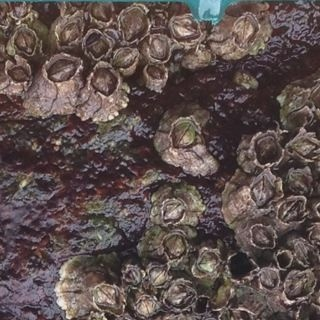Barnacle: (119, 6, 148, 44), (169, 11, 203, 42), (251, 174, 277, 210), (170, 117, 199, 149), (89, 66, 118, 97), (46, 56, 77, 84), (285, 269, 312, 301), (253, 135, 281, 165), (289, 131, 317, 159), (12, 25, 37, 56), (166, 283, 192, 310), (93, 285, 120, 311), (233, 16, 257, 45), (278, 199, 304, 225), (59, 16, 81, 46), (85, 31, 107, 61), (195, 251, 220, 276), (293, 241, 317, 267), (150, 33, 171, 62), (160, 200, 184, 225), (134, 293, 157, 319), (112, 48, 138, 70), (165, 233, 187, 259), (91, 1, 114, 24), (250, 226, 273, 249), (257, 268, 278, 290), (6, 65, 30, 84), (149, 264, 168, 288), (123, 267, 141, 286), (146, 66, 166, 81)
